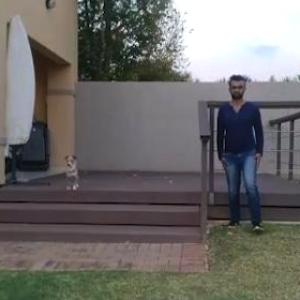follow: (217, 72, 267, 229)
